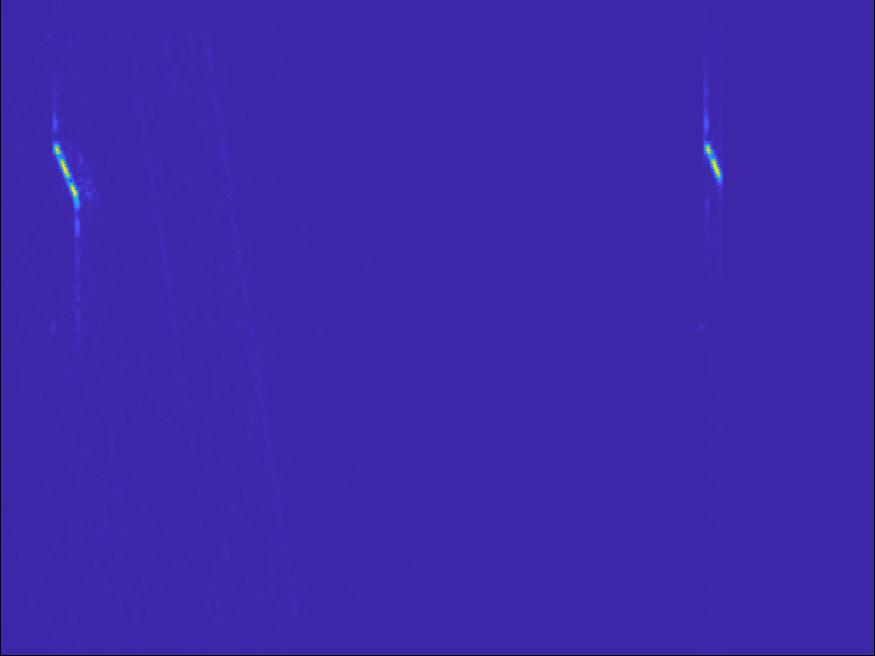Interference: (685, 95, 743, 223), (39, 129, 96, 238)
